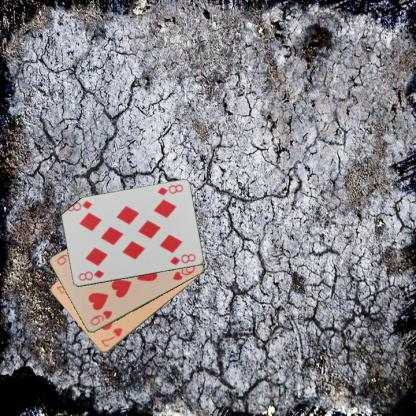7h: (98, 324, 124, 348)
8d: (155, 182, 184, 197), (76, 268, 105, 282)
9h: (88, 308, 114, 327)
